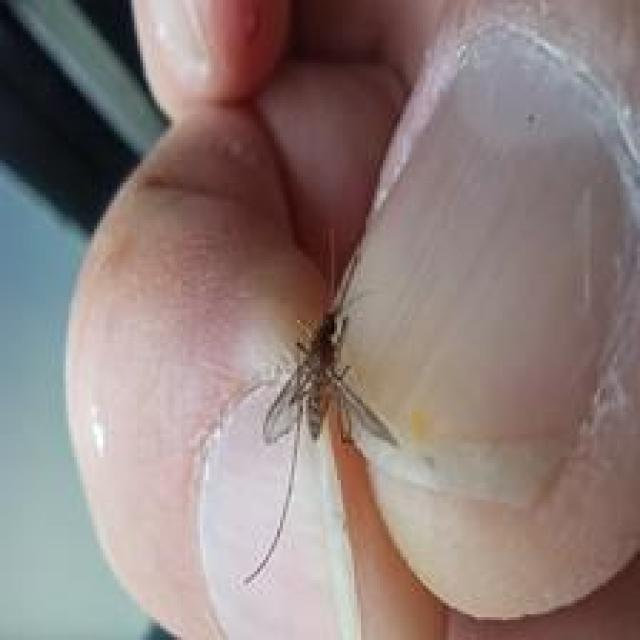Culex: (194, 11, 640, 640)
